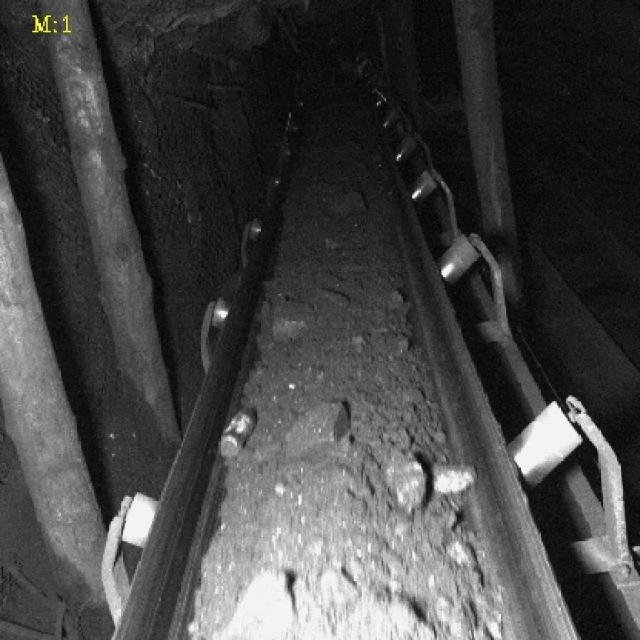Other_garbage: (218, 408, 257, 455)
large_sized_coal: (283, 402, 351, 451), (384, 454, 430, 512), (269, 298, 317, 338), (429, 460, 478, 494)
